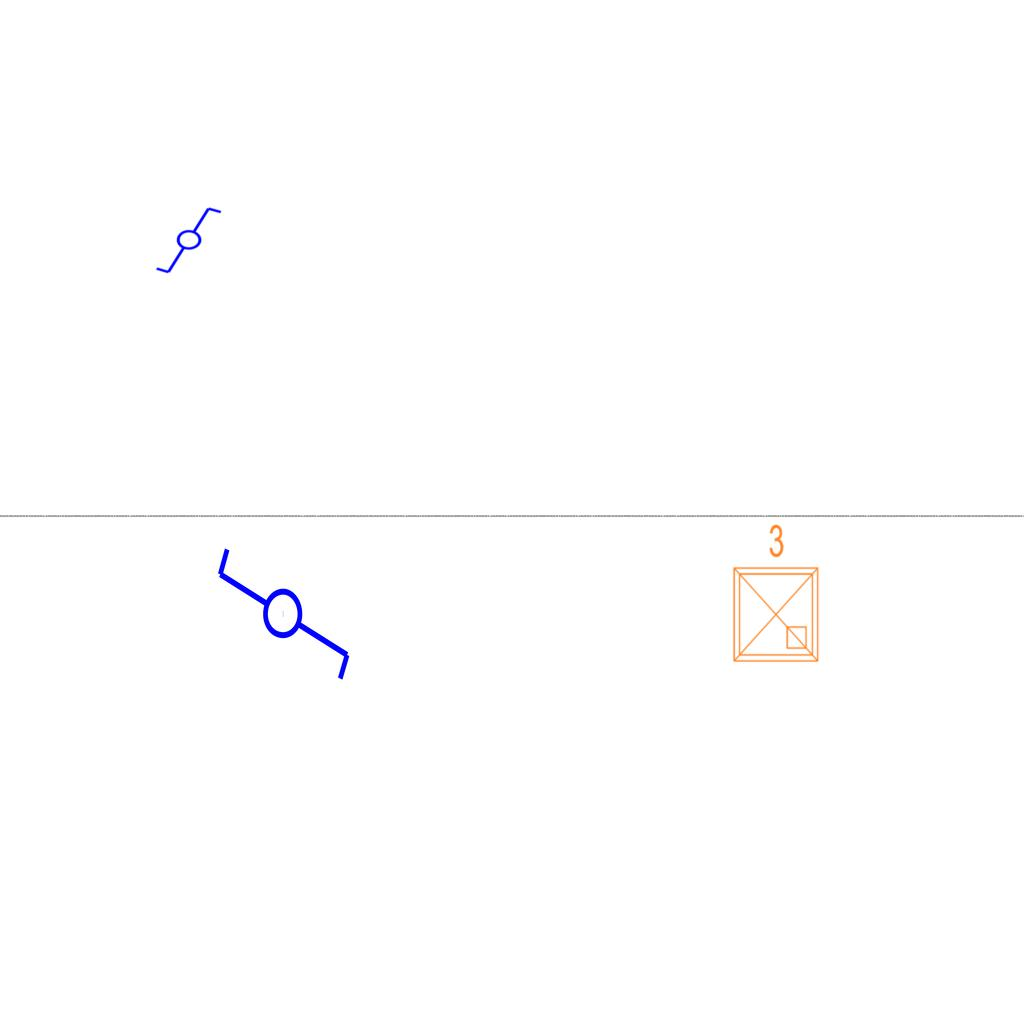Einbaudownlights_LED_Konferenzraeume: (722, 519, 826, 669)
Wechselschalter: (213, 527, 357, 684), (154, 205, 232, 277)
